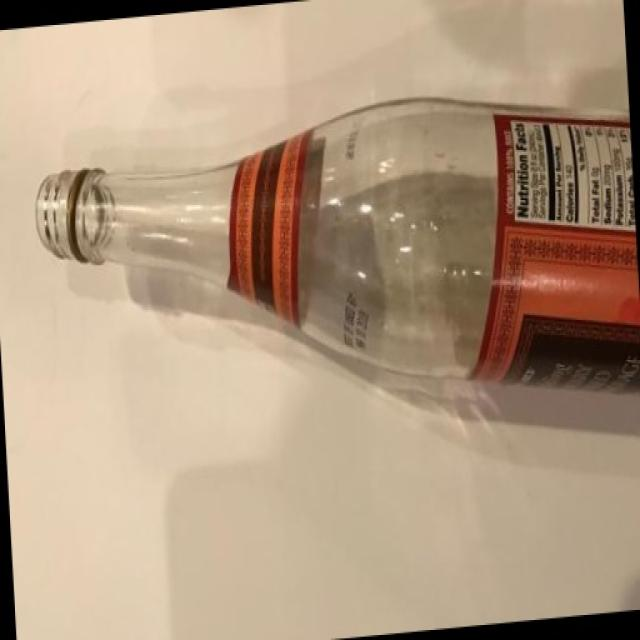vidrio: (19, 73, 640, 467)
